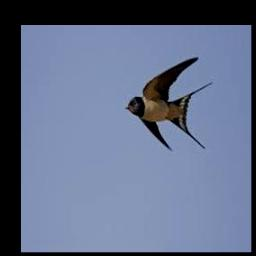Swallow: (125, 56, 214, 150)
